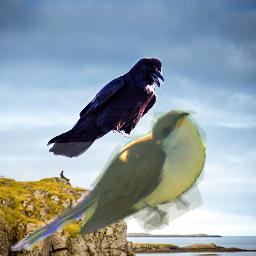Crow: (47, 57, 164, 158)
Cuckoo: (8, 110, 206, 251)
